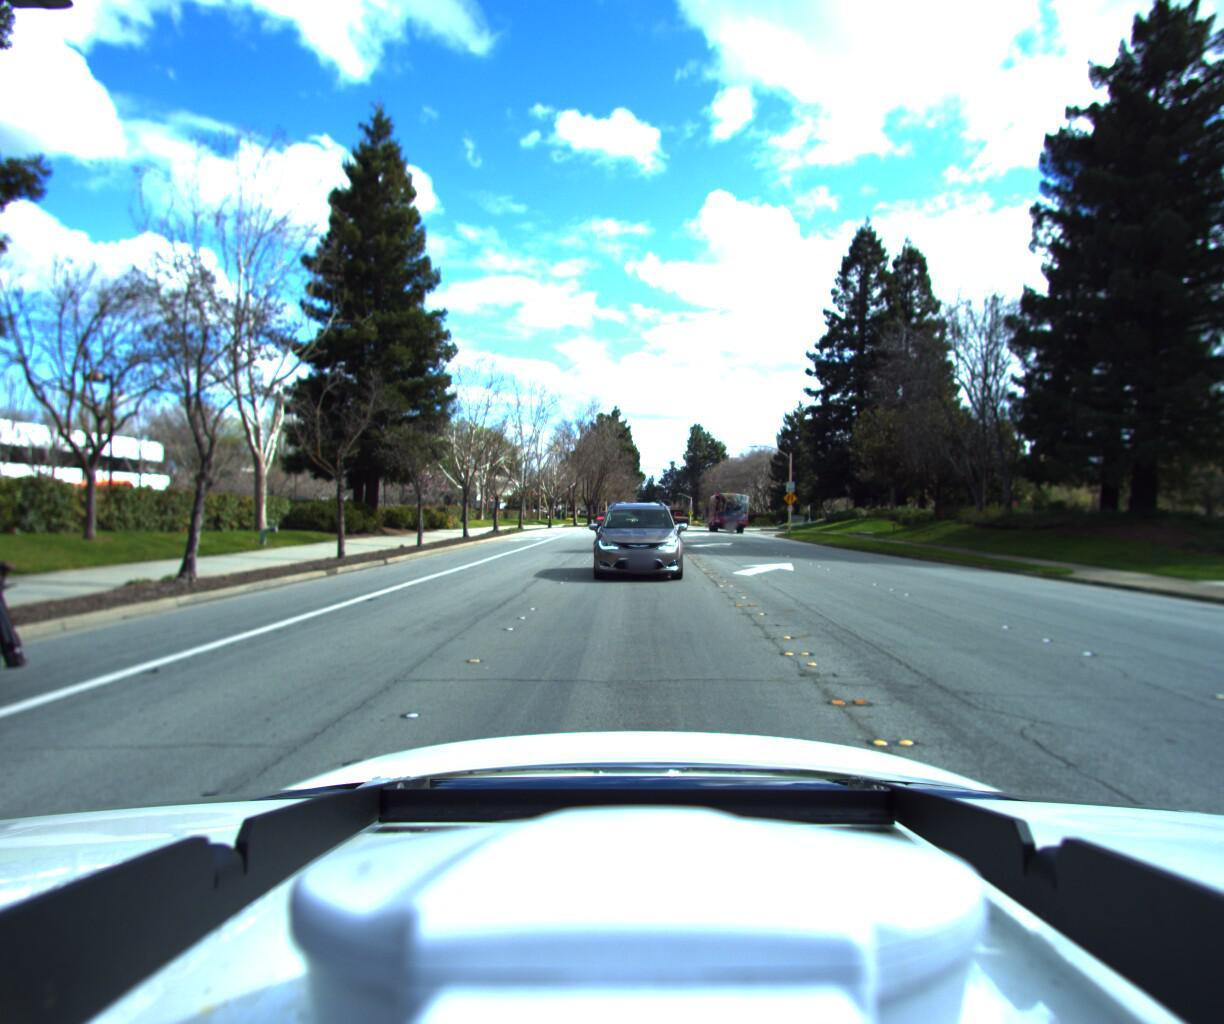bus: (701, 498, 747, 542)
car: (587, 498, 684, 588)
